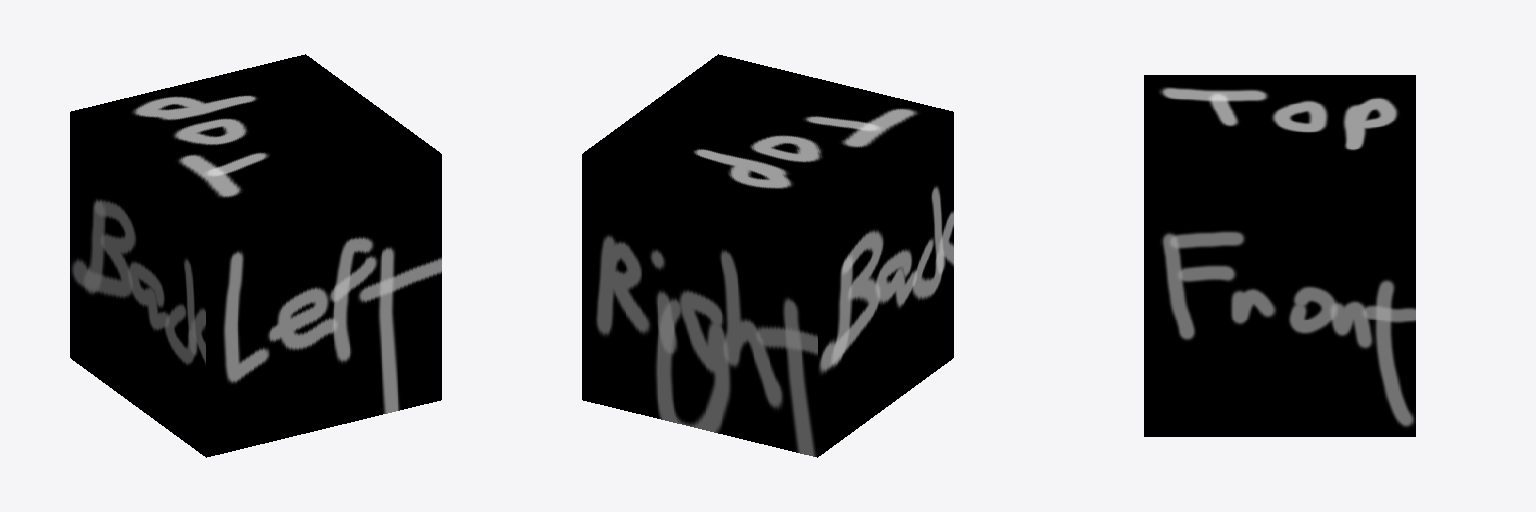
The picture shows the model from 3 angles: view 1: azimuth 30°, elevation 25°; view 2: azimuth 150°, elevation 25°; view 3: azimuth 270°, elevation 25°; orthographic projection.
Visible parts, largest first — view 1: Cube; view 2: Cube; view 3: Cube.
Part boxes in pixels (bbox=[...]): Cube: bbox=[70, 54, 441, 457]; Cube: bbox=[582, 54, 953, 457]; Cube: bbox=[1144, 75, 1415, 436].
Bounding box in the file's own units: 2 × 2 × 2.
1 materials, 1 textured.